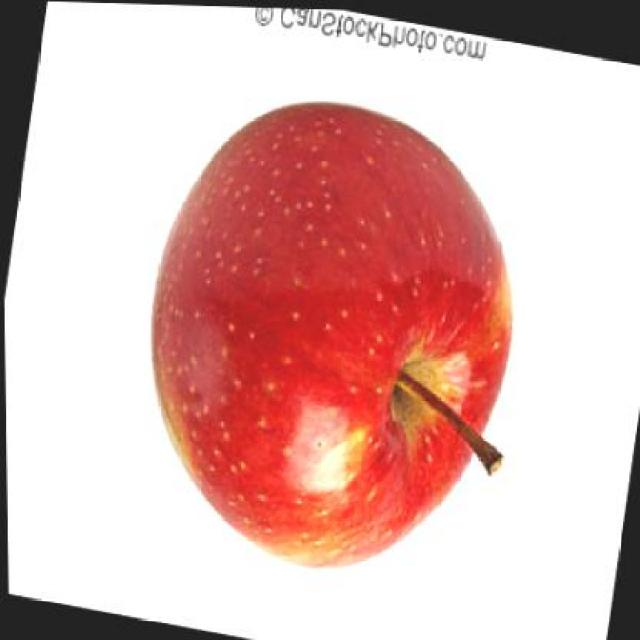Fresh Apple: (139, 104, 506, 562)
